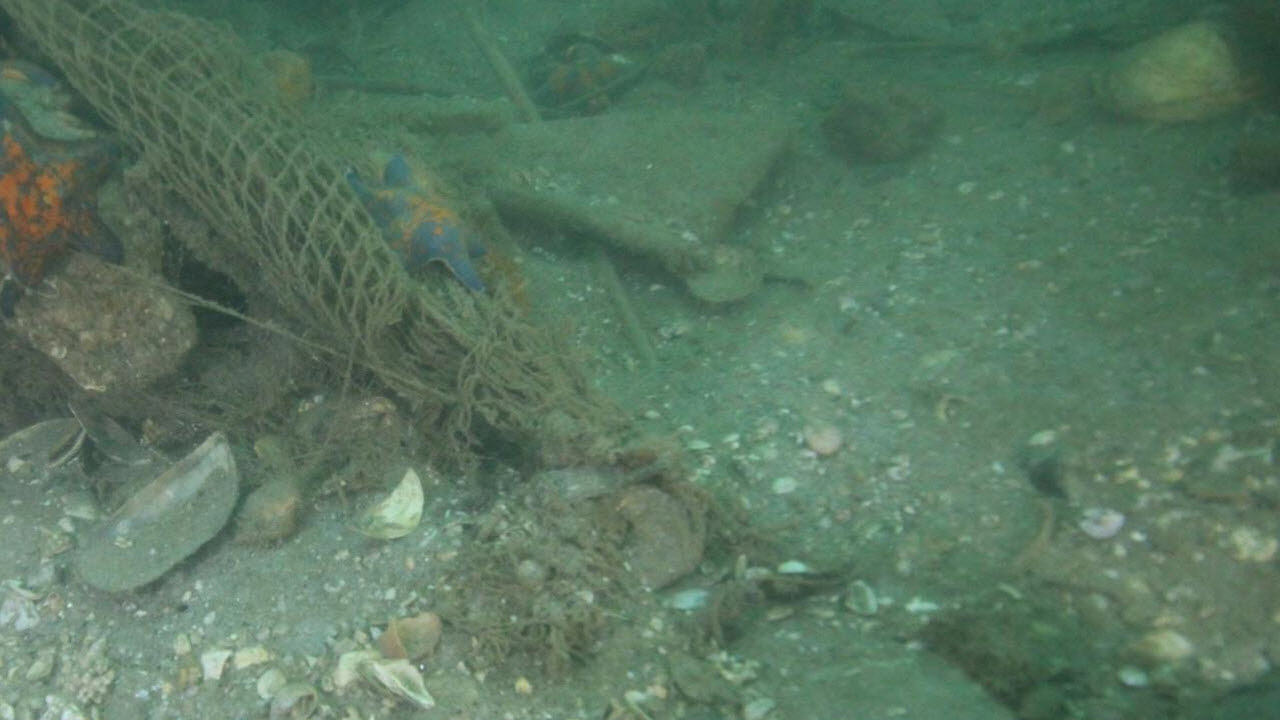fish net: (0, 0, 412, 350)
